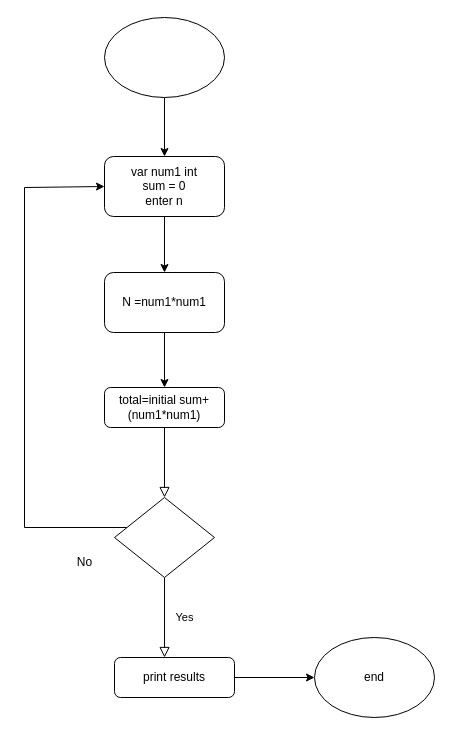
This 452x735 diagram has some shape labels left out. The shapes that lost their labels are listed below. From the top down, each one's centre as x and y in pixels, then its label:
At (x=164, y=57): "start".
At (x=164, y=537): "final sum?".
